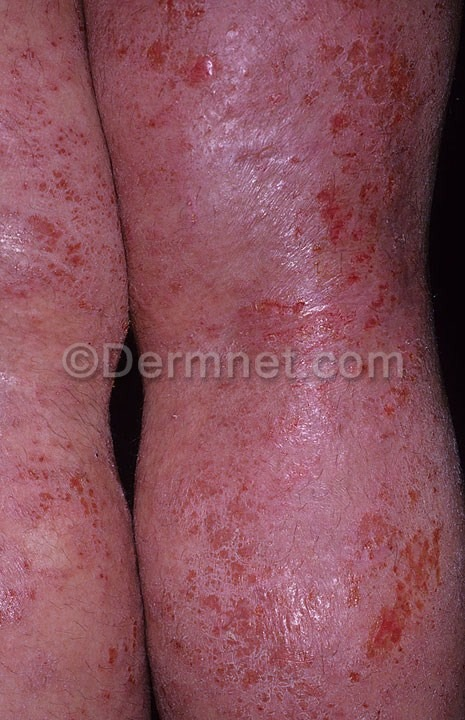Eczema: (4, 2, 465, 720)
